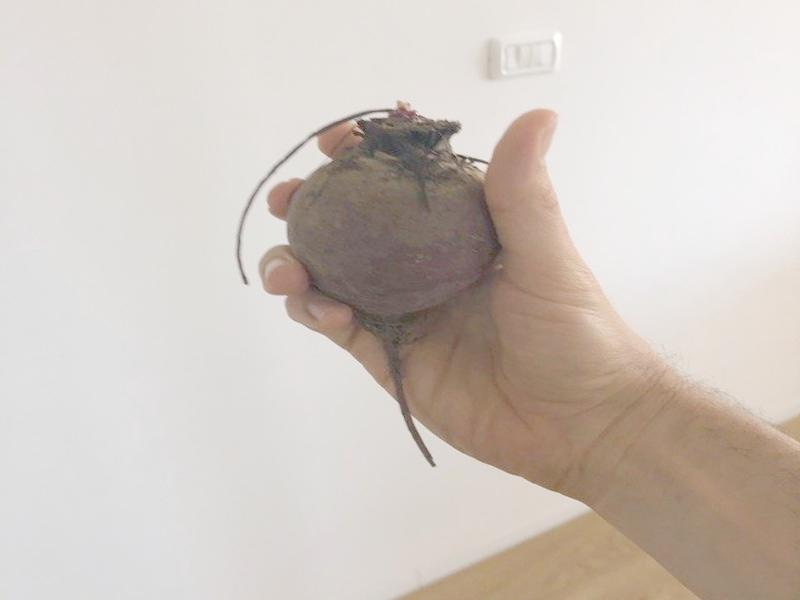Beet: (233, 102, 492, 466)
